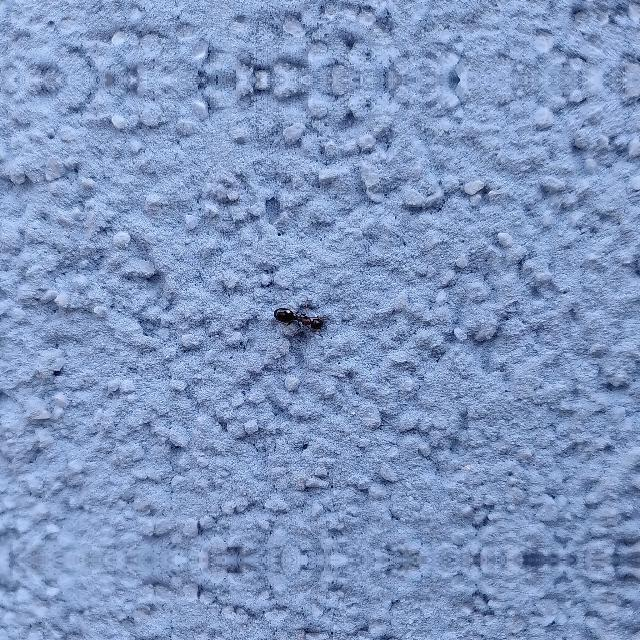Dolichoderus: (263, 298, 335, 338)
